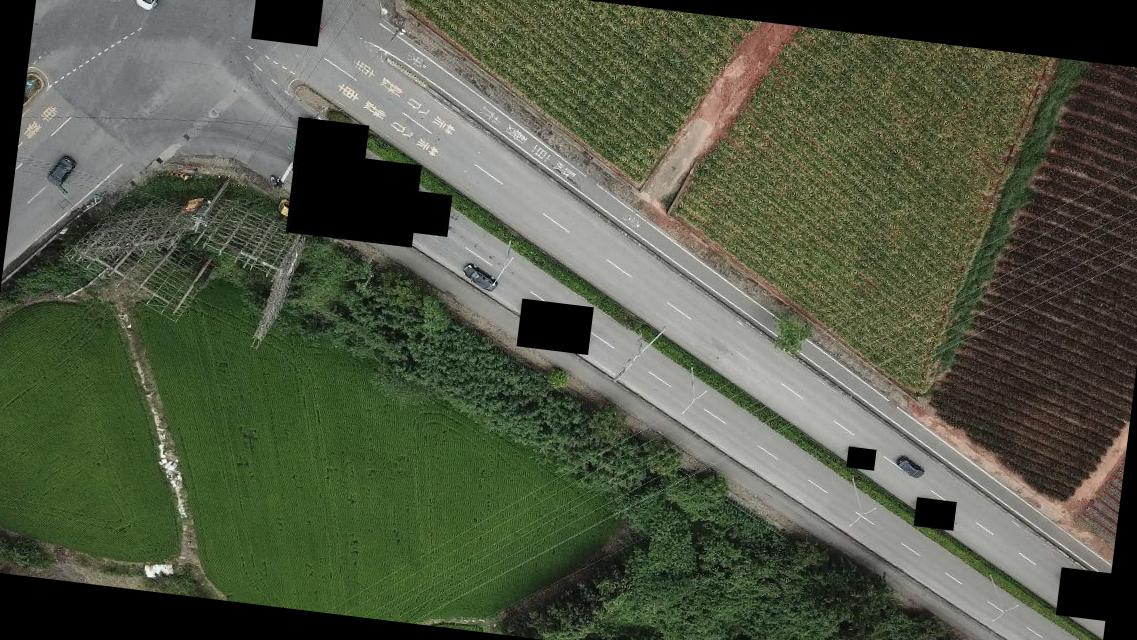vehicle: (459, 262, 500, 294), (46, 152, 76, 190), (275, 197, 304, 226), (893, 456, 924, 479), (133, 0, 163, 14)
